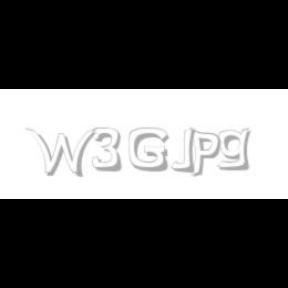3: (92, 128, 122, 172)
G: (128, 128, 168, 172)
J: (170, 128, 196, 172)
P: (189, 128, 221, 178)
W: (25, 128, 97, 178)
g: (217, 128, 254, 171)
